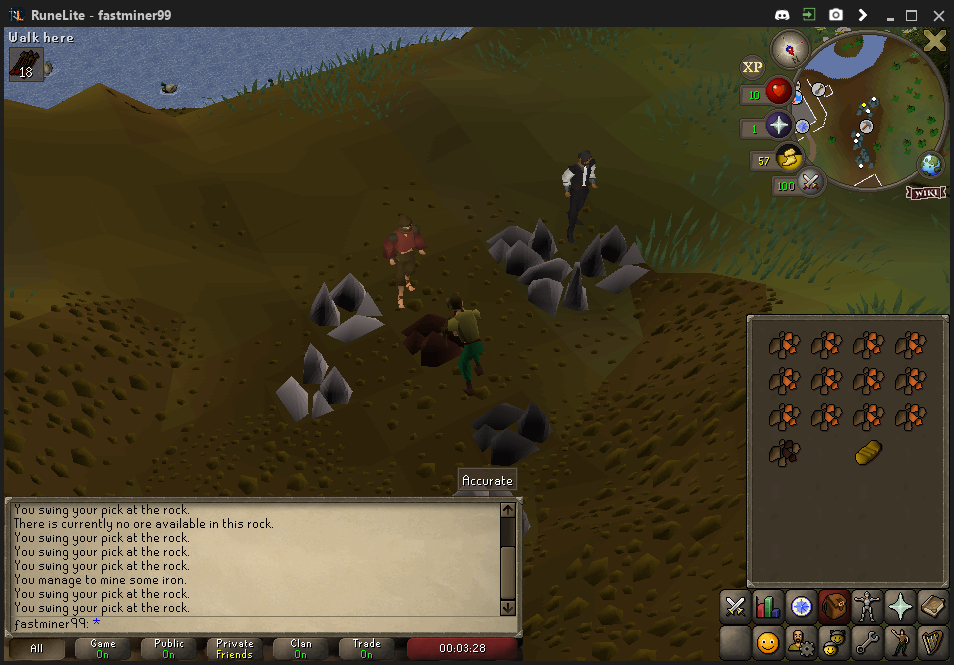depleted: (462, 396, 557, 464)
ore: (392, 313, 474, 369)
